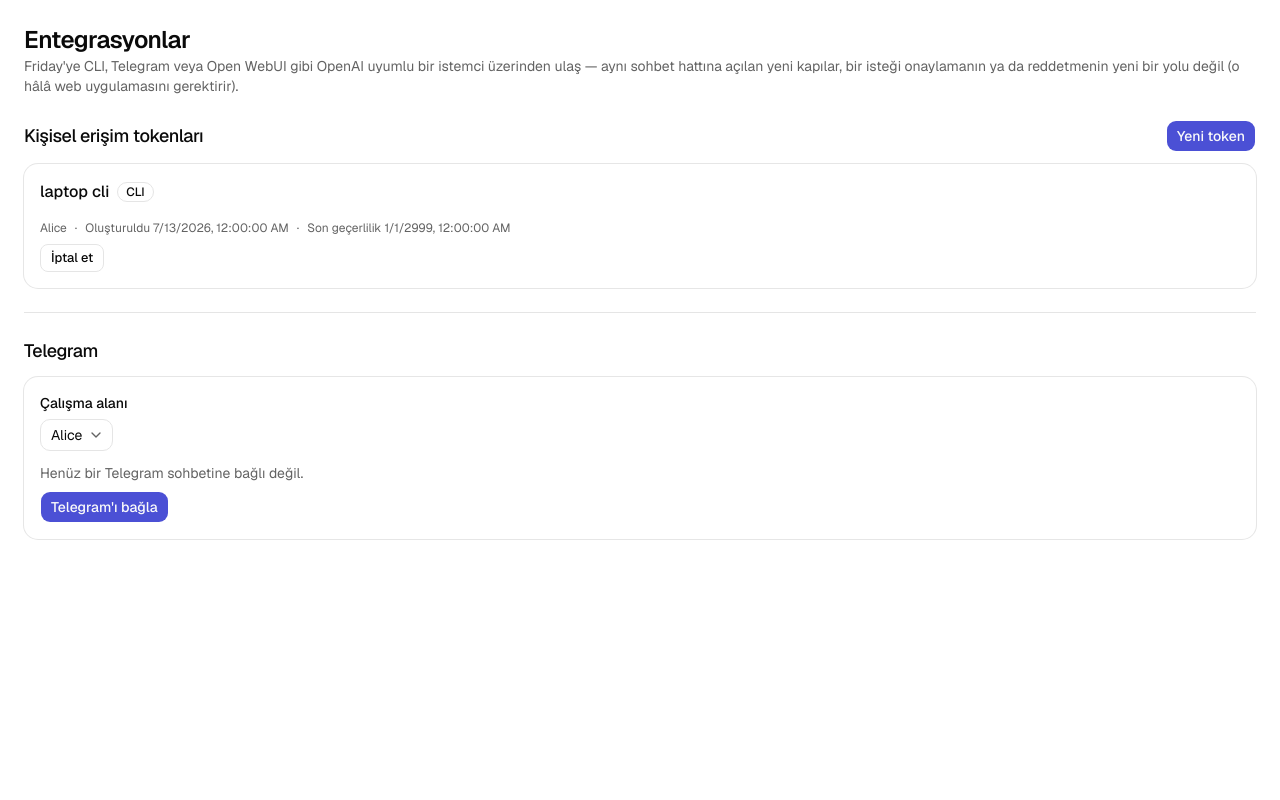
it: IntegrationsView › revokes a token only after confirmation
Expected: the text "laptop cli" is shown, [40,181,109,202]
Click the button "İptal et": (72, 258) [40,244,104,272]
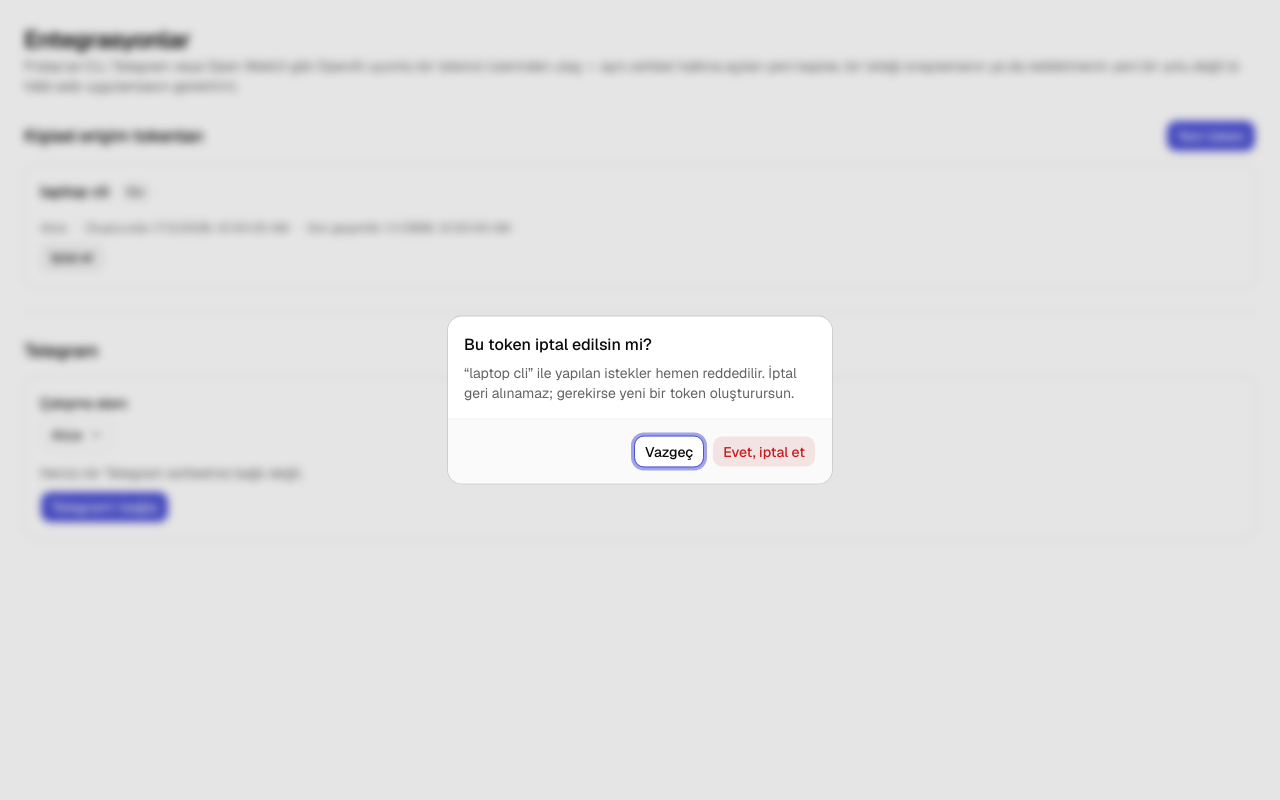
Expected: the text "İptal edildi" is not shown
Expected: the dialog shows "“laptop cli”", [464,364,797,402]
Click the button "Evet, iptal et": (764, 452) [712,436,816,468]
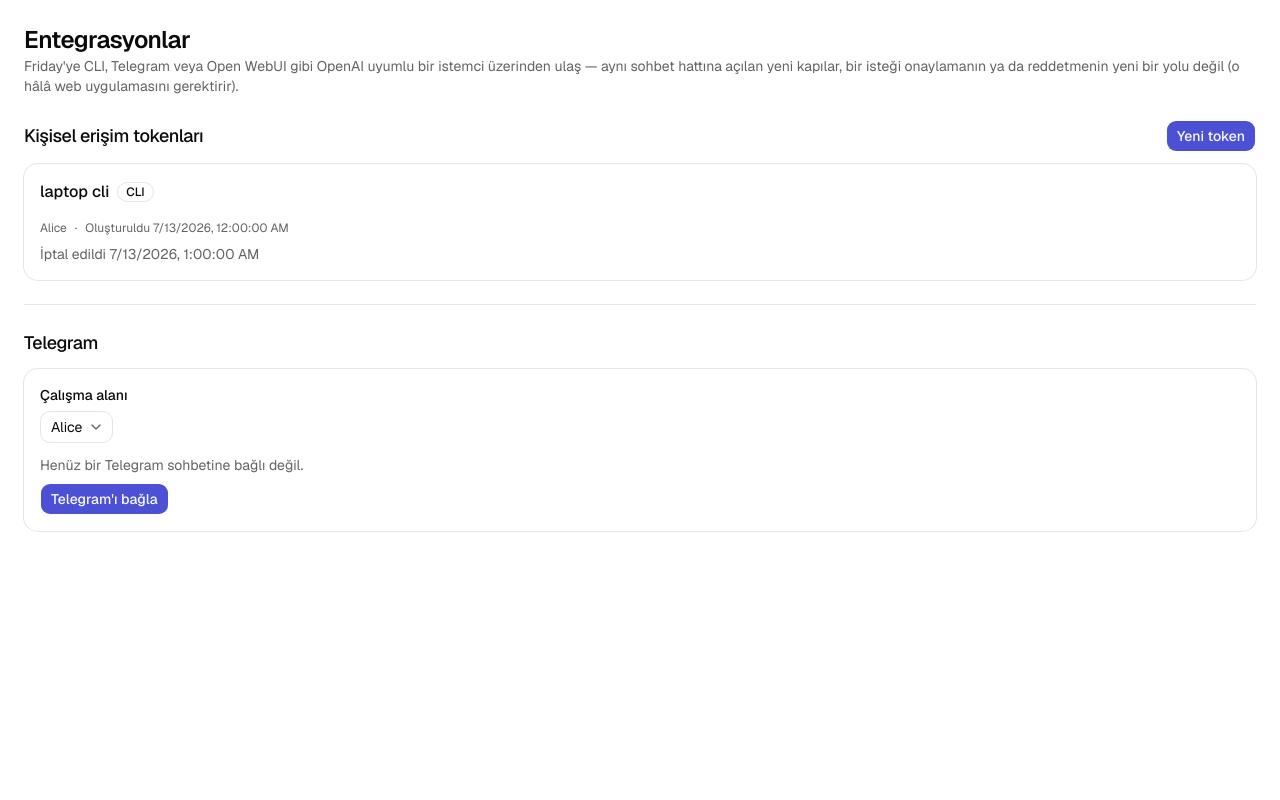
Expected: the text "İptal edildi 7/13/2026, 1:00:00 AM" is shown, [40,245,259,263]
Expected: the button "İptal et" is gone
